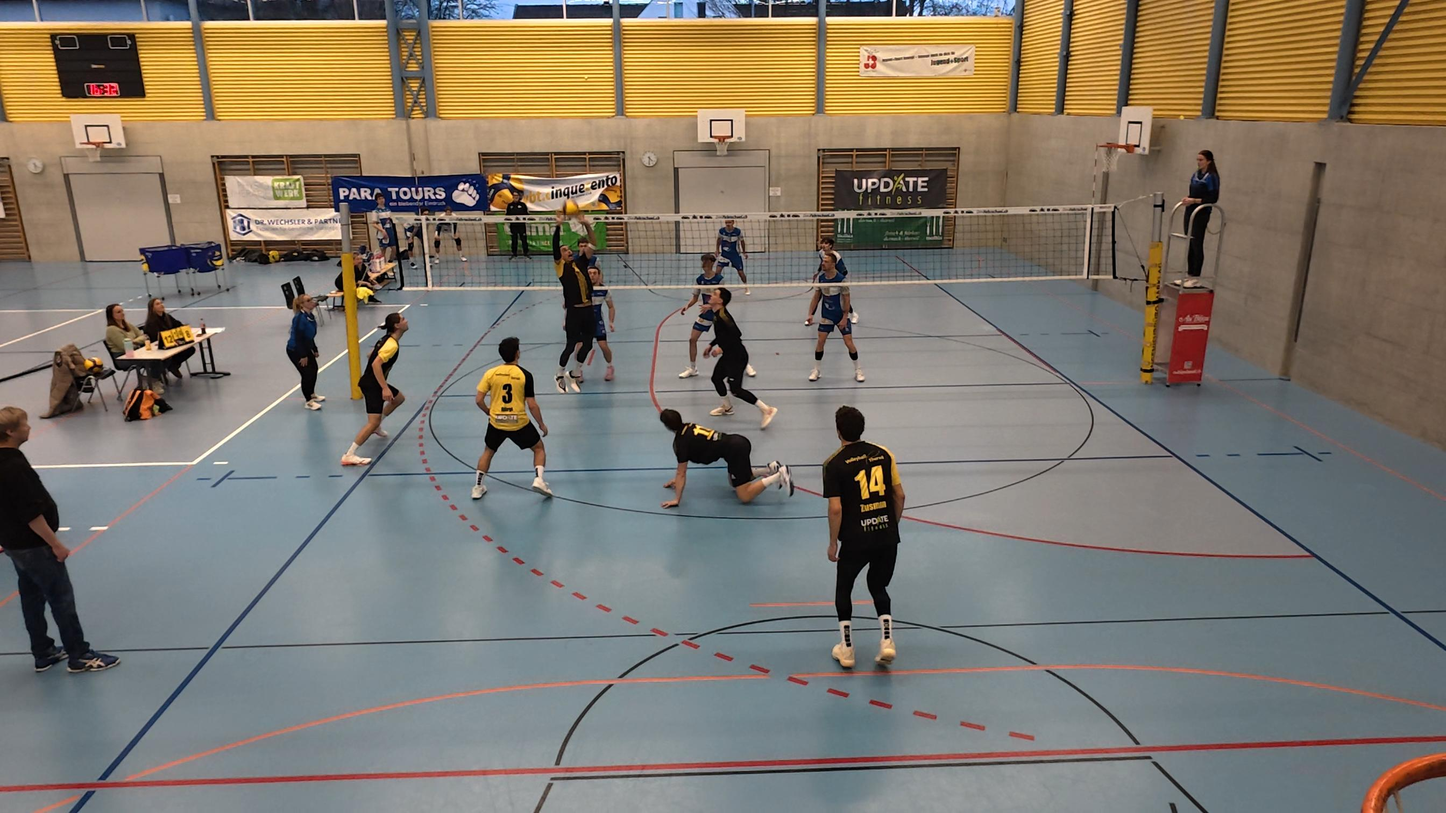alzata: (549, 193, 599, 396)
